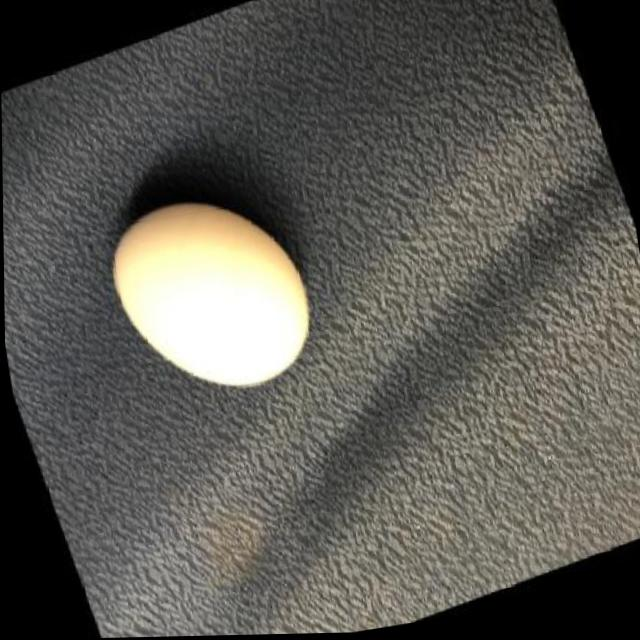egg: (102, 180, 326, 411)
